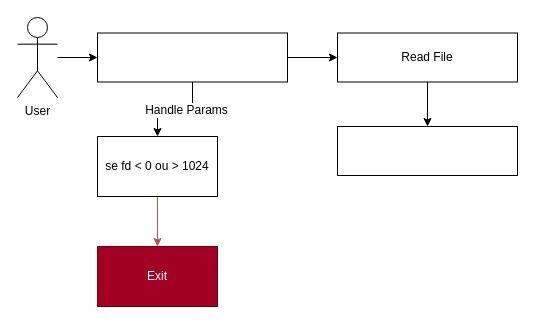
Image size: 535x324. Some labels were removed from this diagram. Here are the shapes that lost their labels. From the top down, the centre of each, then its label:
the point at 192,57: get_next_line(int fd)
the point at 427,151: Temp buffer
